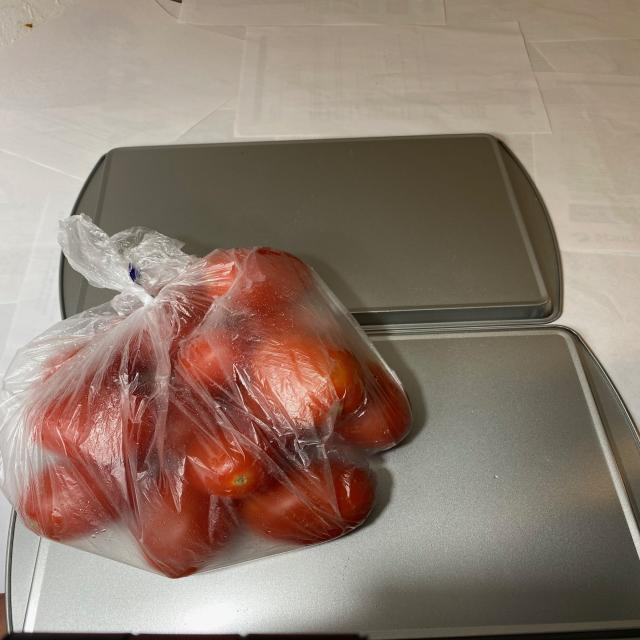tomato: (9, 247, 414, 576)
